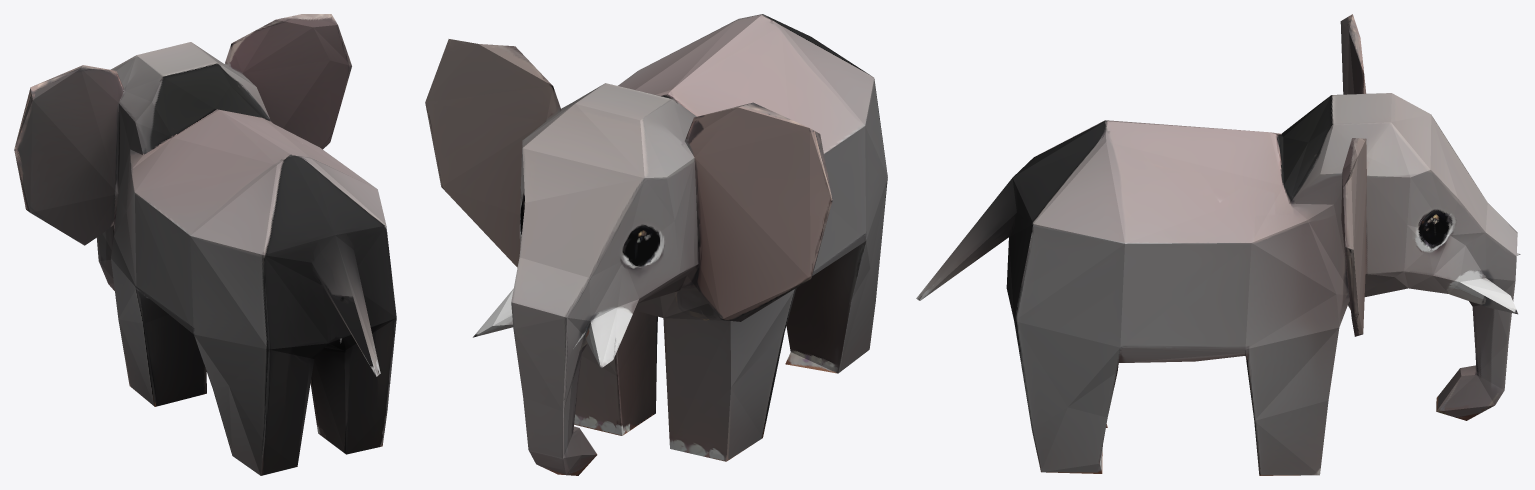
3 renders of one model, left to right at view 1: azimuth 30°, elevation 25°; view 2: azimuth 150°, elevation 25°; view 3: azimuth 270°, elevation 25°, orthographic. The views are drawn at different scales.
Visible parts, largest first — view 1: Figure; view 2: Figure; view 3: Figure.
Part boxes in pixels (x1,y1,x2,y2): Figure: (14,14,396,475); Figure: (425,14,887,475); Figure: (916,14,1520,475).
Size of the model in its own units: 0.4111 by 0.3703 by 0.5748.
1 material, 1 textured.
